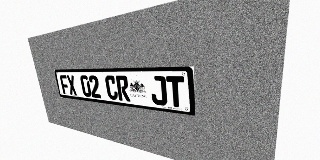0: (80, 75, 92, 97)
2: (88, 75, 101, 98)
C: (104, 75, 119, 100)
F: (59, 75, 70, 95)
J: (150, 76, 167, 106)
R: (115, 76, 130, 102)
T: (166, 76, 185, 108)
X: (66, 75, 77, 95)
